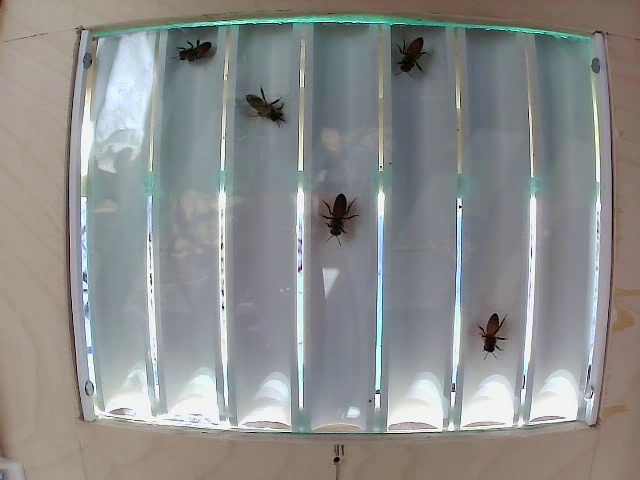bee: (361, 22, 436, 90), (306, 181, 368, 252), (462, 304, 517, 367), (231, 68, 289, 123), (159, 25, 217, 79)
